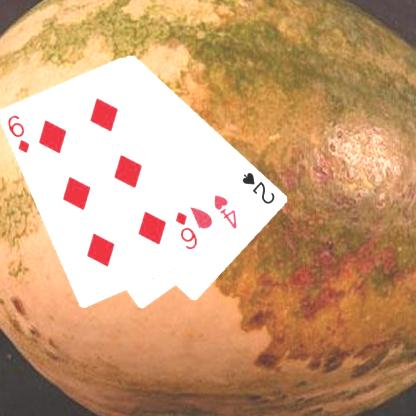2S: (239, 169, 277, 205)
4H: (211, 192, 239, 231)
6D: (5, 112, 32, 154), (173, 209, 199, 252)
